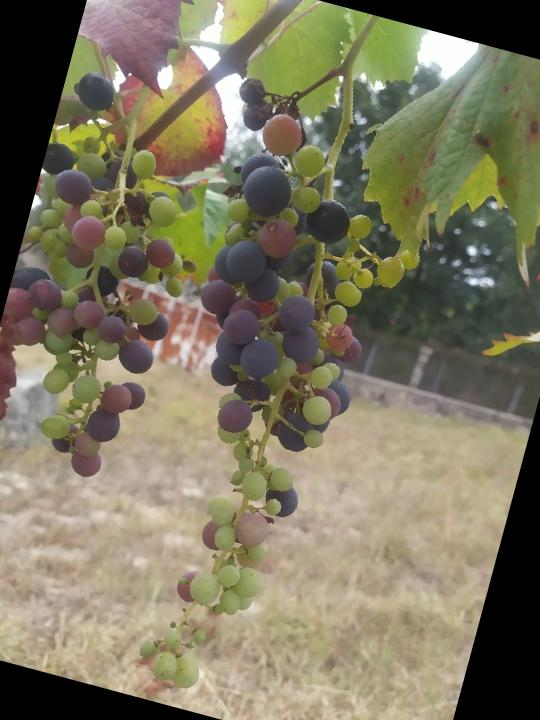grape: (88, 75, 455, 718), (0, 62, 238, 495)
